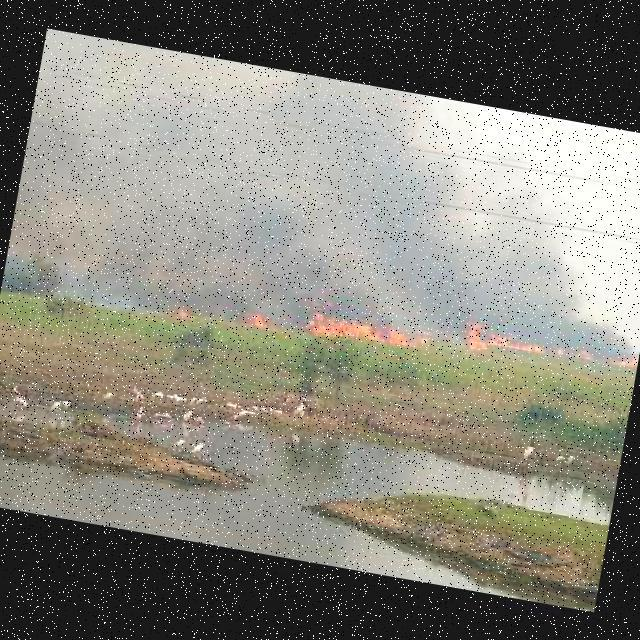Fire: (296, 303, 429, 351), (457, 317, 546, 365), (169, 300, 201, 321), (603, 348, 637, 365), (242, 309, 268, 329), (550, 341, 566, 355), (576, 349, 593, 362)
Smoke: (8, 60, 595, 347)
